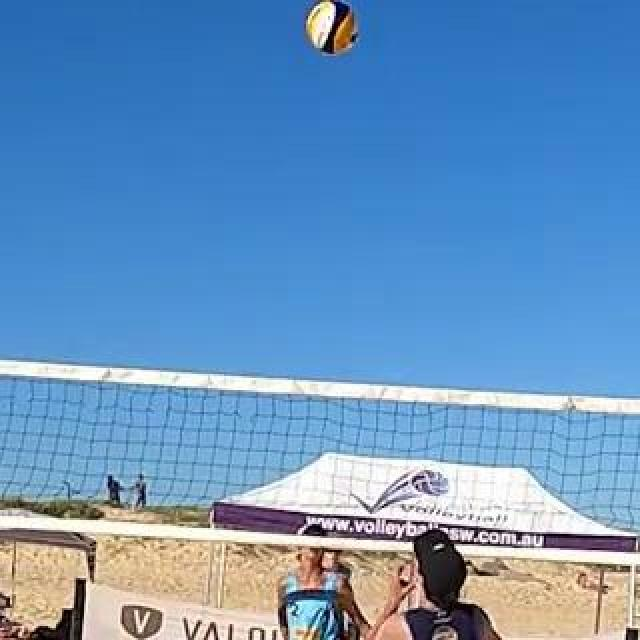volleyball: (308, 0, 358, 54)
